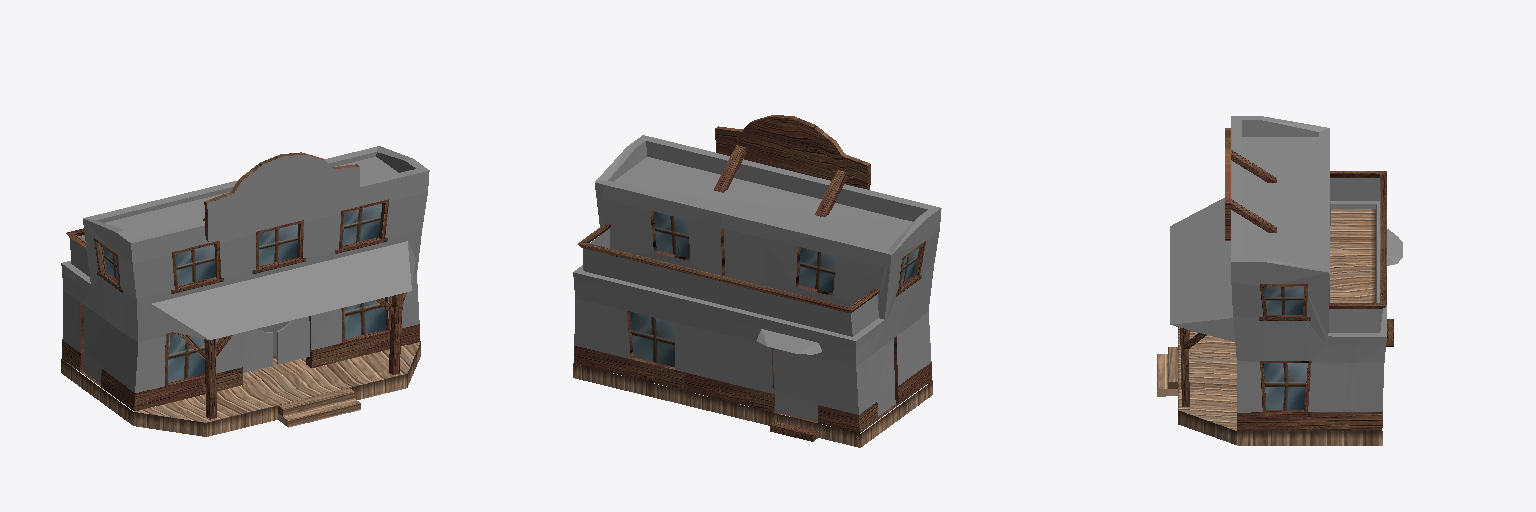
3 renders of one model, left to right at view 1: azimuth 30°, elevation 25°; view 2: azimuth 150°, elevation 25°; view 3: azimuth 270°, elevation 25°, orthographic.
Visible parts, largest first — view 1: Material__3003, Saloon; view 2: Material__3003, Saloon; view 3: Material__3003, Saloon.
Boxes of the visible parts, box(x1,y1,x2,y2) form: Material__3003: box(61, 146, 429, 436); Saloon: box(66, 152, 359, 372); Material__3003: box(573, 135, 941, 447); Saloon: box(578, 115, 879, 336); Material__3003: box(1157, 116, 1402, 445); Saloon: box(1225, 128, 1386, 332).
Size of the model in its own units: 588 by 449 by 420.
9 materials, 3 textured.